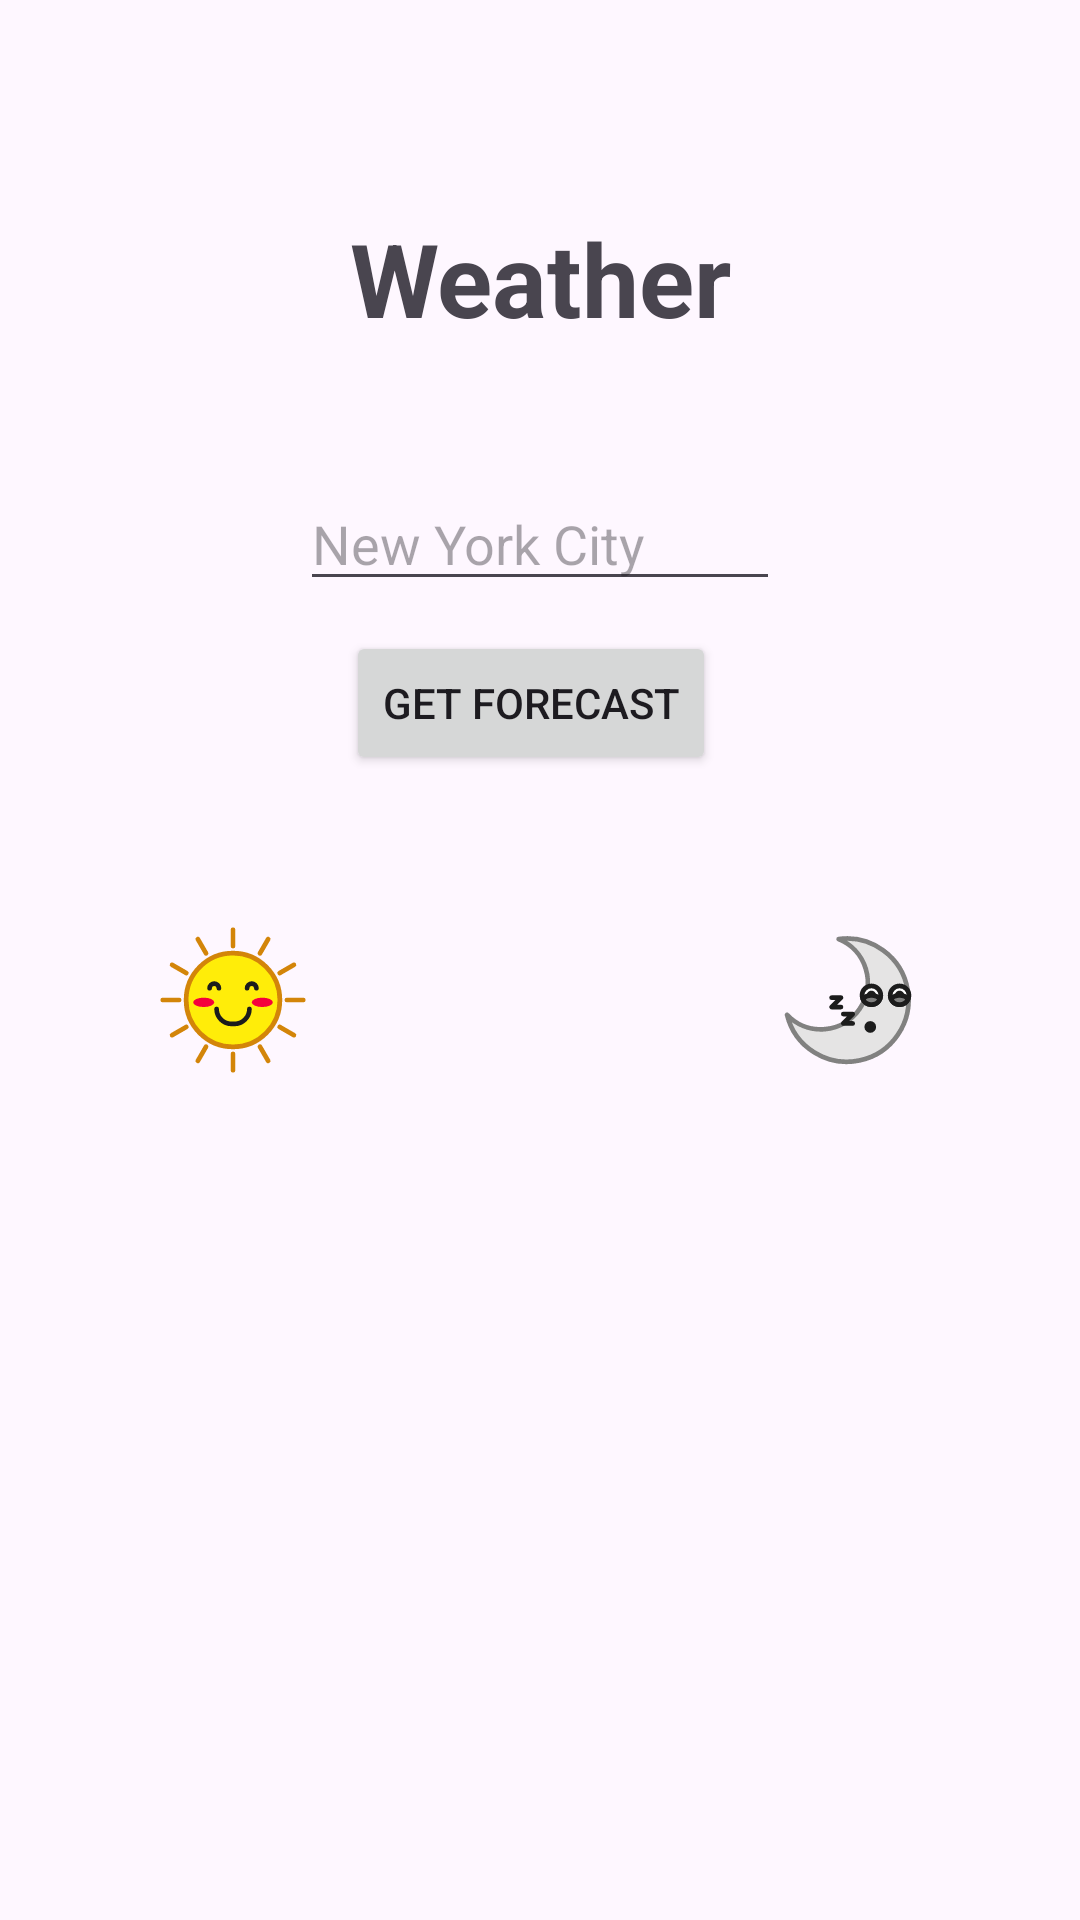

Icons on this 1080×1920 Android screen, each with its box as box=[x1, y1, x2, y2]:
emoticon happy smile: box=[160, 927, 306, 1073]
emoticon moon night: box=[784, 936, 912, 1065]
